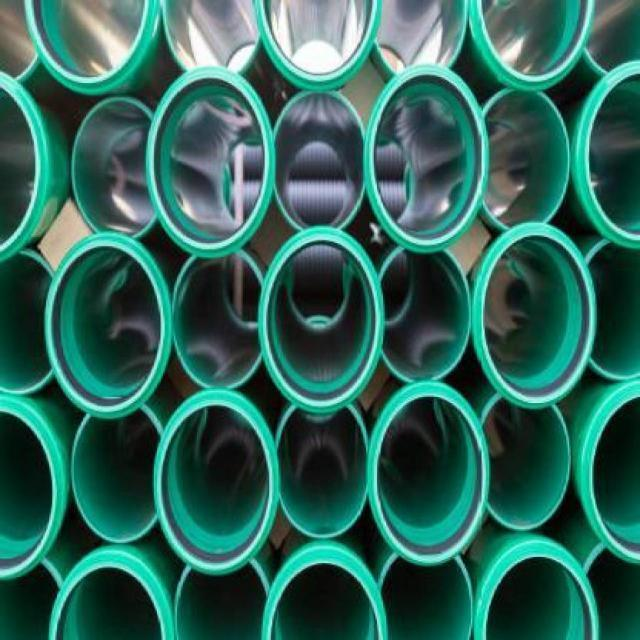pipe: (148, 68, 275, 257), (364, 65, 489, 254), (261, 229, 386, 414), (473, 224, 596, 408), (368, 385, 490, 566), (45, 240, 165, 415), (155, 401, 274, 575), (272, 90, 366, 230), (478, 391, 571, 530), (480, 89, 571, 231), (377, 245, 471, 382), (72, 403, 163, 543), (275, 405, 370, 539), (477, 538, 599, 640), (25, 0, 157, 94), (172, 251, 262, 388), (577, 61, 640, 250), (262, 545, 387, 639), (71, 97, 153, 240), (0, 395, 63, 580), (48, 550, 176, 639), (255, 0, 382, 89), (474, 1, 596, 92), (581, 381, 640, 562), (0, 71, 48, 262), (377, 552, 472, 640), (584, 236, 640, 382), (1, 249, 56, 397), (175, 557, 272, 640), (162, 0, 262, 76), (374, 0, 468, 76)
